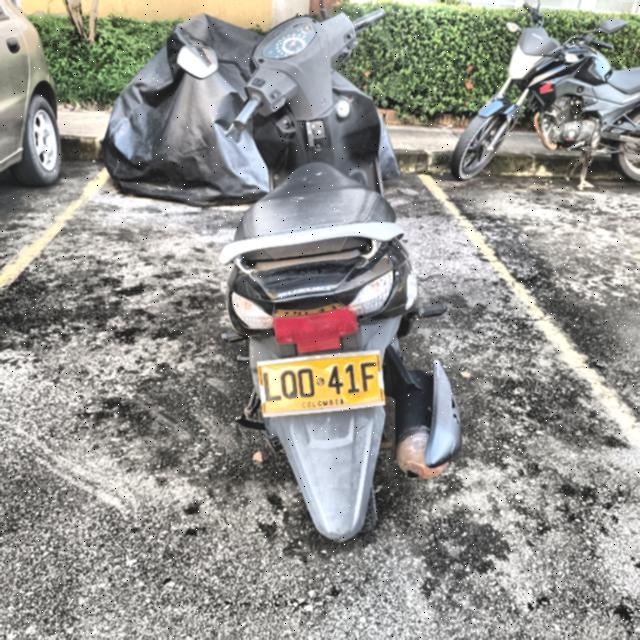1: (342, 362, 362, 395)
4: (325, 365, 345, 396)
F: (359, 361, 377, 394)
L: (262, 371, 283, 405)
O: (296, 366, 317, 400)
Q: (277, 369, 299, 402)
